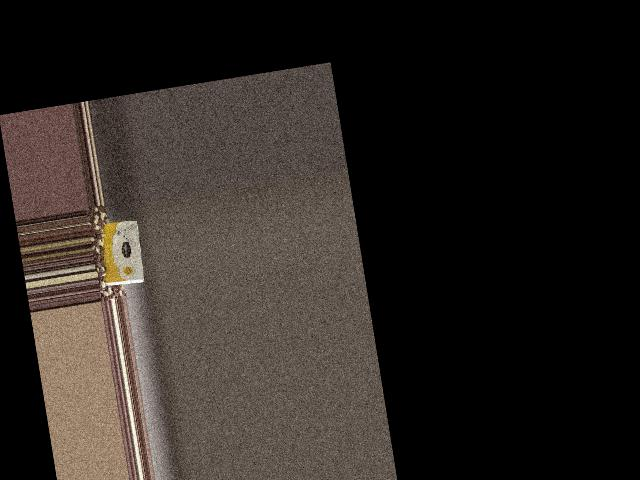chocolate: (93, 214, 149, 291)
